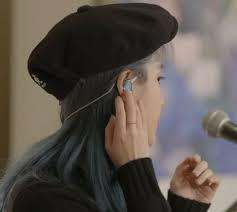earphone: (123, 77, 135, 96)
